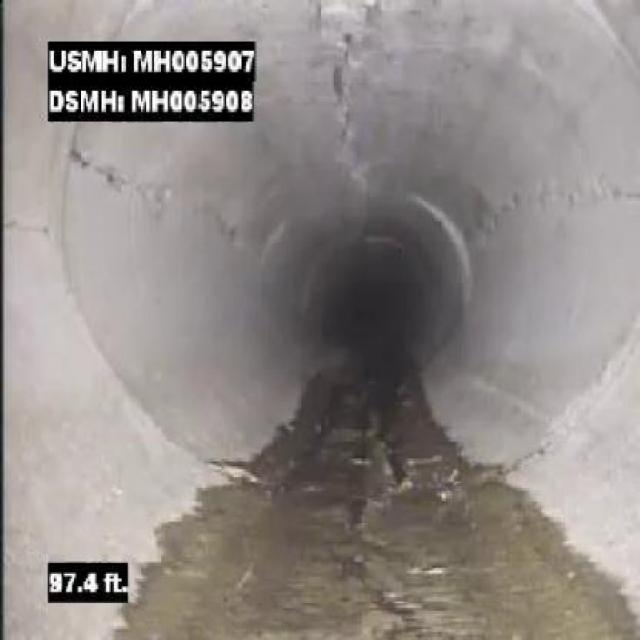Crack: (466, 179, 639, 246), (340, 520, 437, 625), (314, 6, 377, 142), (65, 132, 183, 194), (360, 414, 426, 489)
